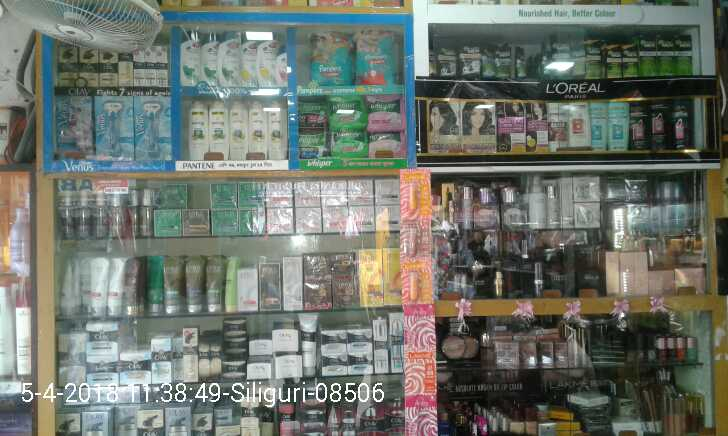venus: (97, 96, 133, 161), (56, 96, 92, 159), (136, 96, 169, 159)
